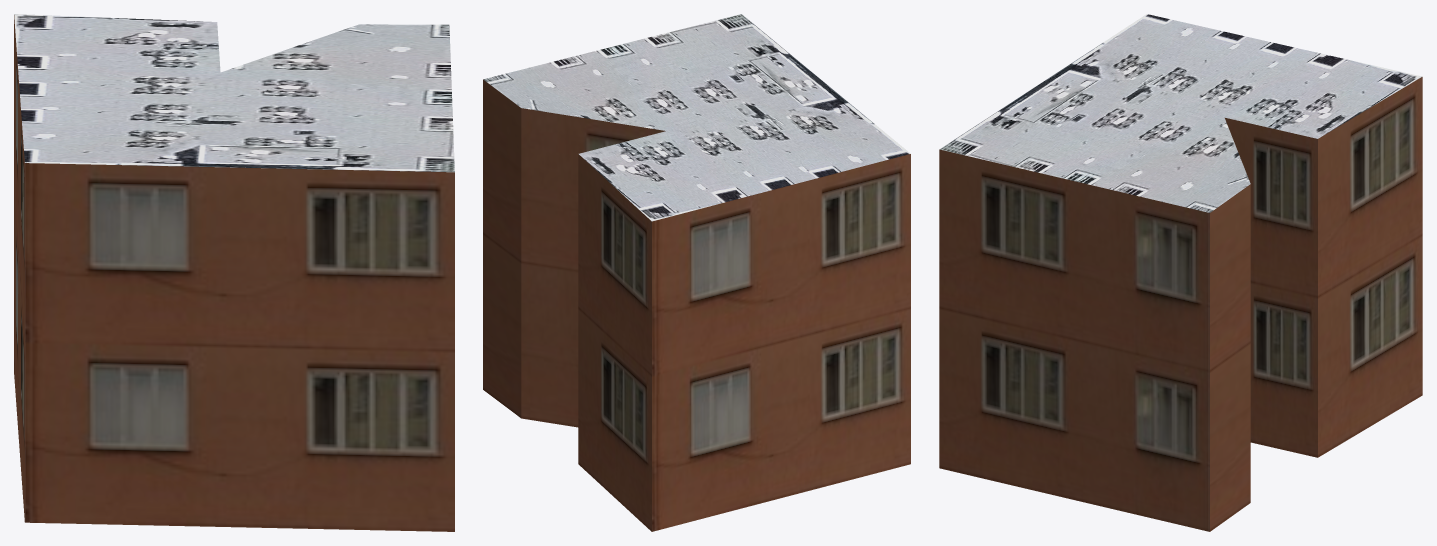
File: ResTex__4472.fbx
The picture shows the model from 3 angles, left to right: view 1: azimuth 30°, elevation 25°; view 2: azimuth 150°, elevation 25°; view 3: azimuth 270°, elevation 25°; orthographic projection. The views are drawn at different scales.
Visible parts, largest first — view 1: CityEngineMaterial_20_m, CityEngineMaterial_4_m; view 2: CityEngineMaterial_20_m, CityEngineMaterial_4_m; view 3: CityEngineMaterial_20_m, CityEngineMaterial_4_m.
Boxes of the visible parts, x1,y1,x2,y2 form: CityEngineMaterial_20_m: [14, 15, 454, 531]; CityEngineMaterial_4_m: [14, 14, 454, 172]; CityEngineMaterial_20_m: [483, 79, 910, 531]; CityEngineMaterial_4_m: [483, 14, 910, 221]; CityEngineMaterial_20_m: [939, 77, 1422, 531]; CityEngineMaterial_4_m: [940, 14, 1421, 212].
Bounding box in the file's own units: 8.03 × 6 × 8.24.
Materials: 2 (2 with a texture image).
